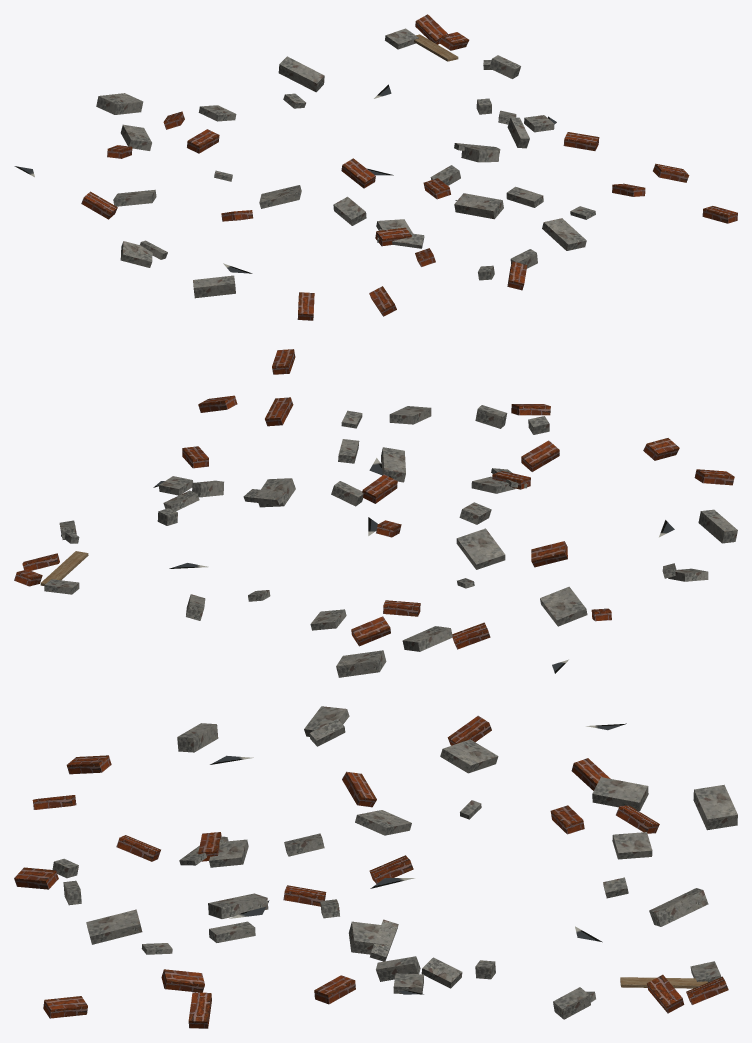
File: S1U_DebrisScatter_B.fbx
3 renders of one model, top to bottom at view 1: azimuth 30°, elevation 25°; view 2: azimuth 150°, elevation 25°; view 3: azimuth 270°, elevation 25°, orthographic. The views are drawn at different scales.
Parts seen in each view (by area): view 1: S1U_DebrisScatter_B; view 2: S1U_DebrisScatter_B; view 3: S1U_DebrisScatter_B.
Part boxes in pixels (x1,y1,x2,y2): S1U_DebrisScatter_B: (14,14,737,320); S1U_DebrisScatter_B: (14,349,737,677); S1U_DebrisScatter_B: (14,706,737,1028).
Size of the model in its own units: 4.58 by 0.2027 by 4.55.
